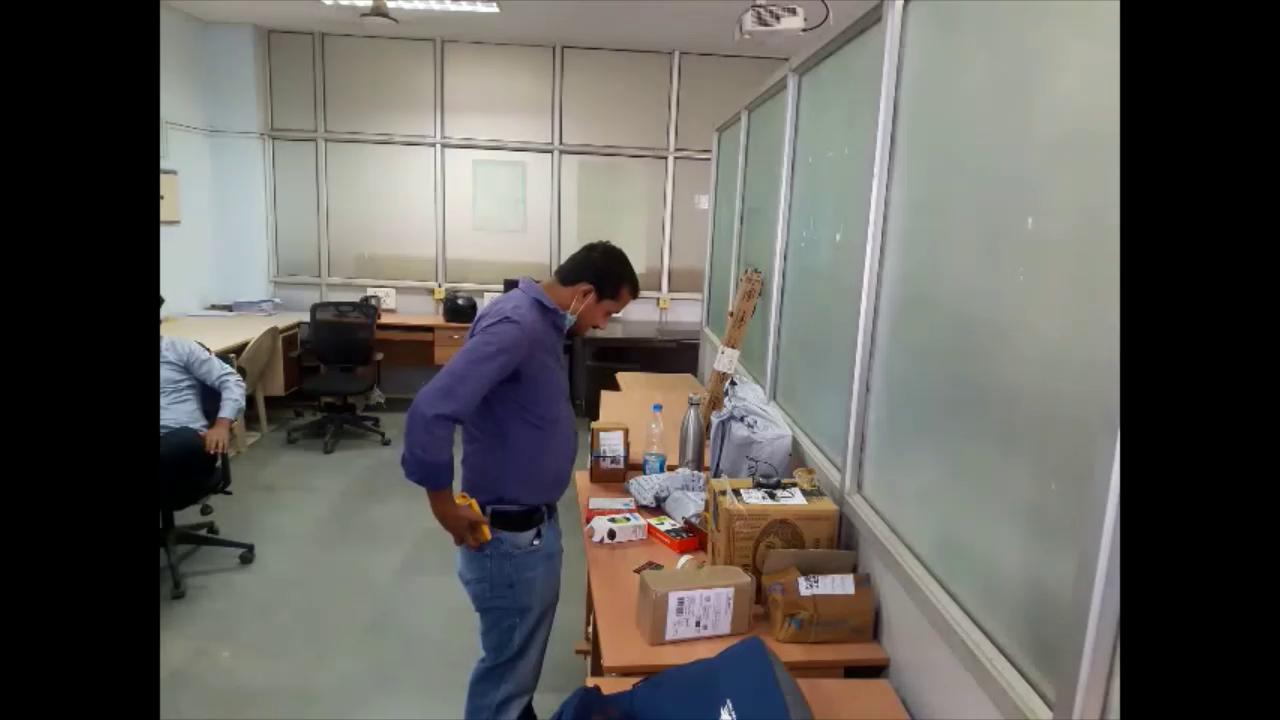shoplifting: (396, 236, 648, 720)
